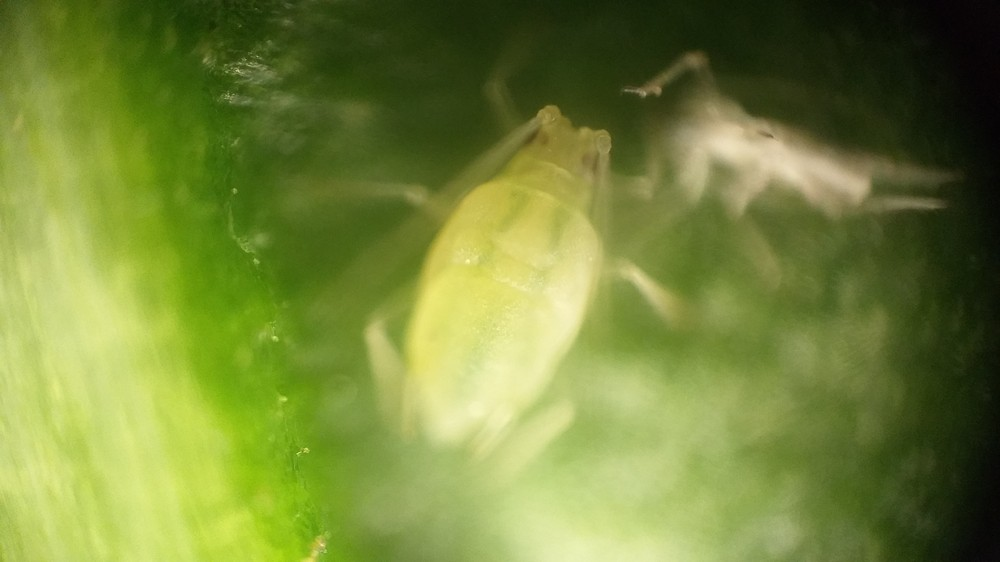Pulgon: (314, 92, 676, 489)
